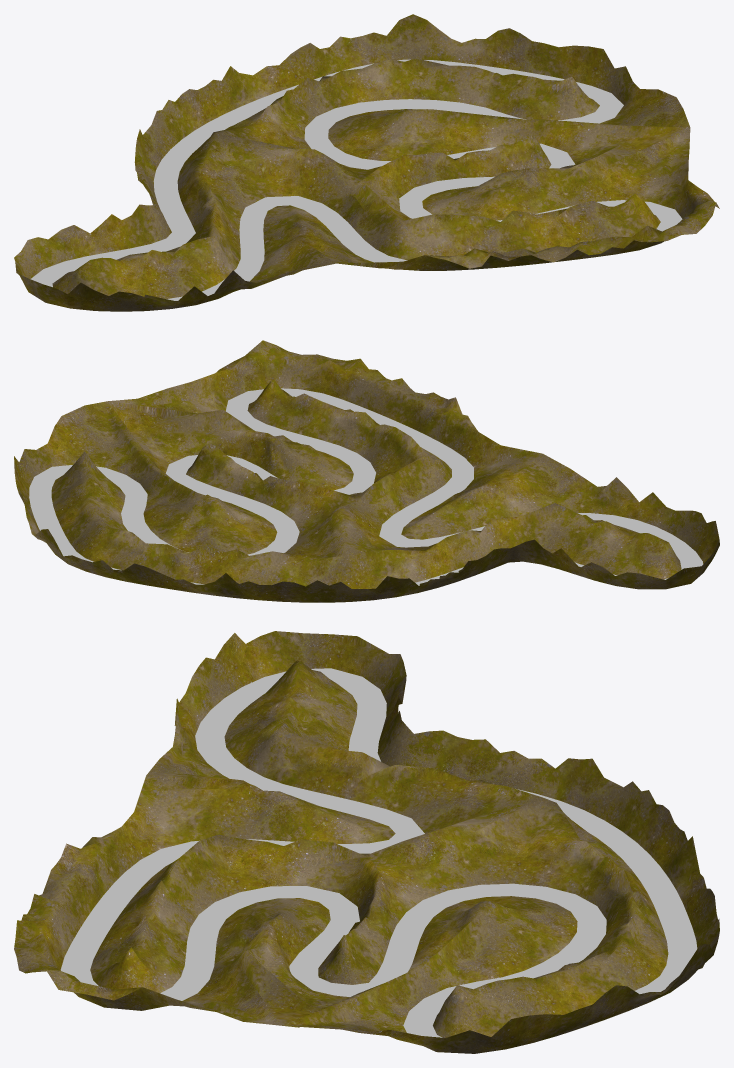
File: racetrack3.obj
3 renders of one model, top to bottom at view 1: azimuth 30°, elevation 25°; view 2: azimuth 150°, elevation 25°; view 3: azimuth 270°, elevation 25°, orthographic. The views are drawn at different scales.
Visible parts, largest first — view 1: Plane.001, Plane; view 2: Plane.001, Plane; view 3: Plane.001, Plane.
Boxes of the visible parts, <box> form: Plane.001: <box>14,14,719,311</box>; Plane: <box>30,59,682,300</box>; Plane.001: <box>14,340,719,602</box>; Plane: <box>29,388,703,585</box>; Plane.001: <box>14,631,719,1053</box>; Plane: <box>60,668,697,1037</box>.
Bounding box in the file's own units: 178 × 9.56 × 132.
